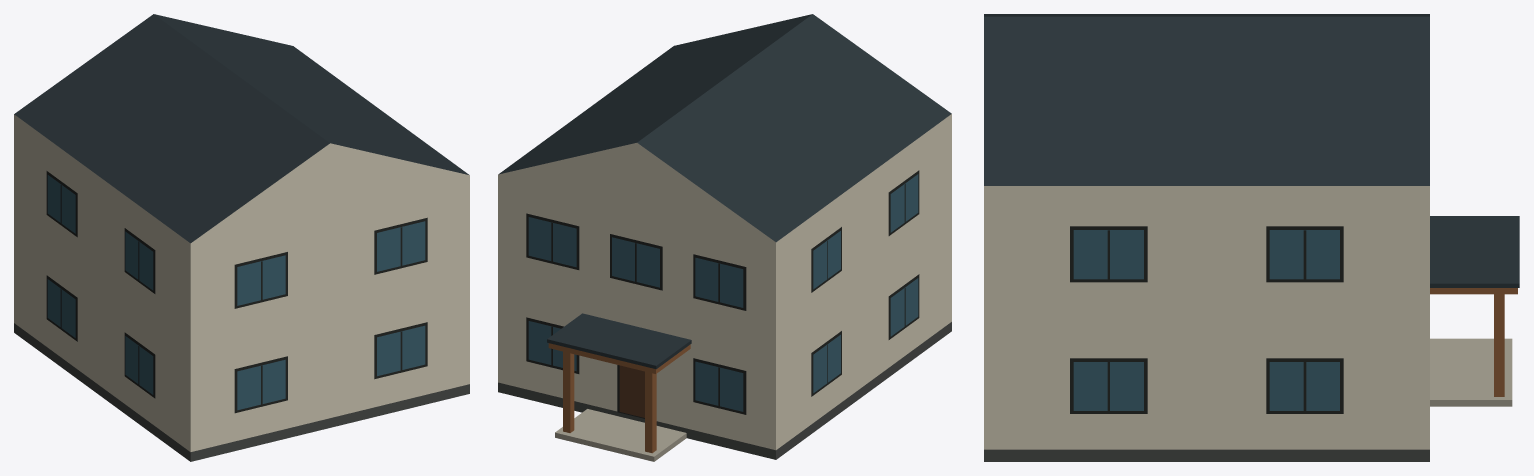
3 views of the same model, side by side, from view 1: azimuth 30°, elevation 25°; view 2: azimuth 150°, elevation 25°; view 3: azimuth 270°, elevation 25° (orthographic). The views are drawn at different scales.
Bounding box in the file's own units: 8.54 × 8.18 × 11.12.
